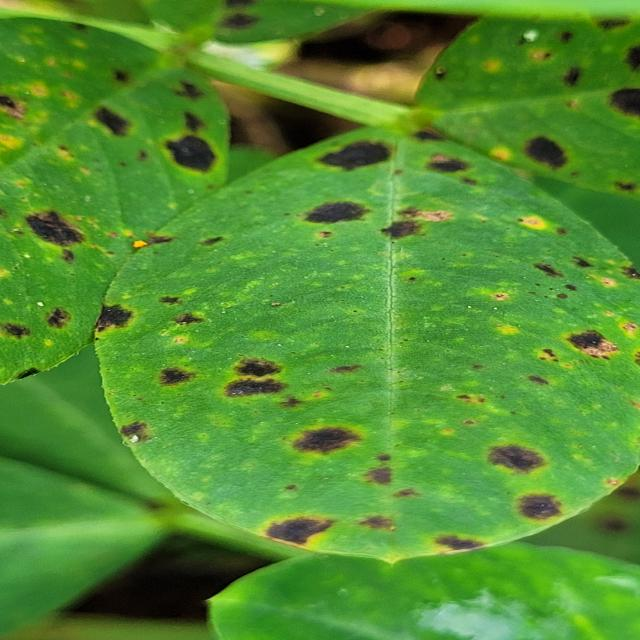Ground nut_tikka leaf spot: (105, 124, 640, 557), (0, 19, 242, 383), (407, 0, 640, 195)
